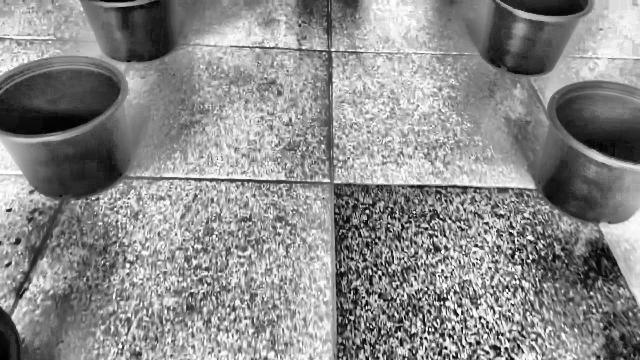pot: (0, 56, 132, 200), (537, 81, 640, 225)
